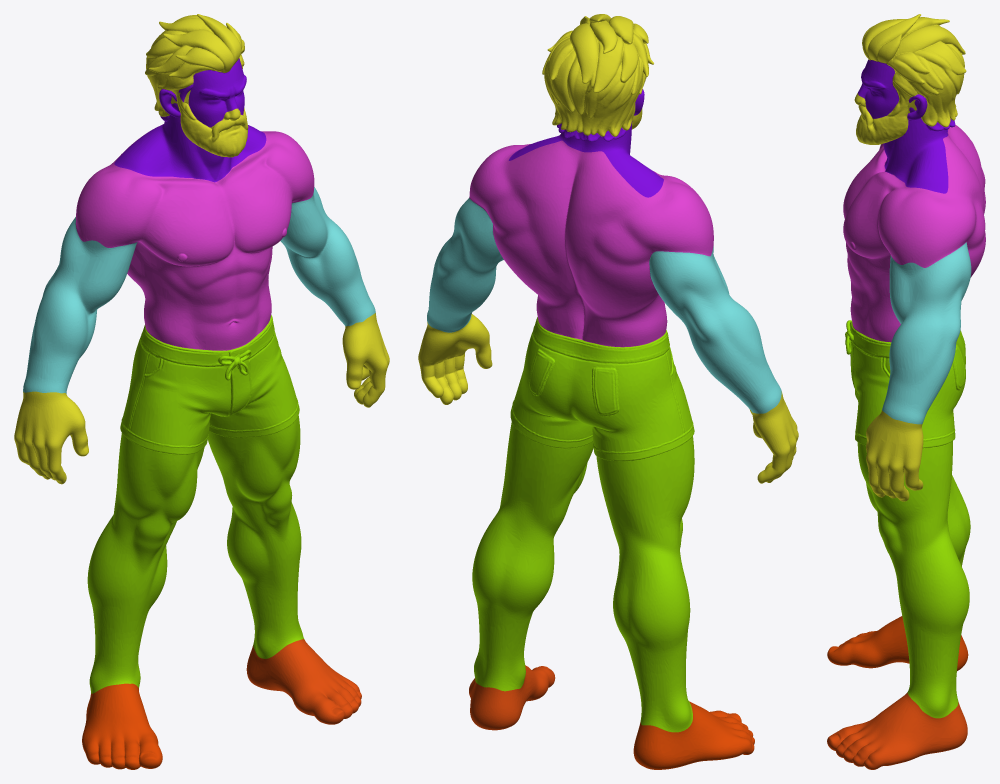
Rendered from meshy-regionen.glb.
3 renders of one model, left to right at view 1: azimuth 30°, elevation 25°; view 2: azimuth 150°, elevation 25°; view 3: azimuth 270°, elevation 25°, orthographic. The views are drawn at different scales.
Visible parts, largest first — view 1: model_part4, model_part3, model_part1, model_part6, model_part9, model_part8, model_part2, model_part5, model_part0, model_part10, model_part7; view 2: model_part4, model_part3, model_part1, model_part6, model_part9, model_part2, model_part10, model_part5, model_part8, model_part0; view 3: model_part4, model_part3, model_part9, model_part6, model_part8, model_part10, model_part5, model_part2, model_part7.
Part boxes in pixels (x1,y1,x2,y2): model_part4: (87, 315, 304, 693); model_part3: (75, 124, 314, 350); model_part1: (23, 217, 137, 393); model_part6: (145, 14, 248, 157); model_part9: (280, 187, 375, 326); model_part8: (246, 639, 361, 724); model_part2: (82, 683, 162, 769); model_part5: (114, 89, 266, 182); model_part0: (14, 391, 88, 484); model_part10: (342, 313, 389, 407); model_part7: (178, 58, 246, 127); model_part4: (472, 317, 694, 732); model_part3: (469, 140, 713, 347); model_part1: (649, 246, 781, 413); model_part6: (542, 14, 653, 136); model_part9: (427, 197, 503, 332); model_part2: (633, 701, 754, 769); model_part10: (418, 314, 492, 404); model_part5: (508, 89, 663, 197); model_part8: (469, 665, 555, 730); model_part0: (749, 391, 798, 483); model_part4: (845, 320, 970, 718); model_part3: (843, 125, 985, 342); model_part9: (882, 242, 971, 424); model_part6: (854, 14, 966, 144); model_part8: (827, 692, 967, 769); model_part10: (866, 410, 923, 501); model_part5: (883, 94, 955, 193); model_part2: (827, 616, 968, 670); model_part7: (858, 59, 899, 118).
Bounding box in the file's own units: 1.03 × 1.9 × 0.3974.
